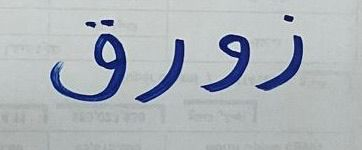qaf: (37, 15, 128, 105)
reh: (130, 32, 194, 106)
waw: (198, 24, 253, 97)
zain: (255, 10, 311, 97)
